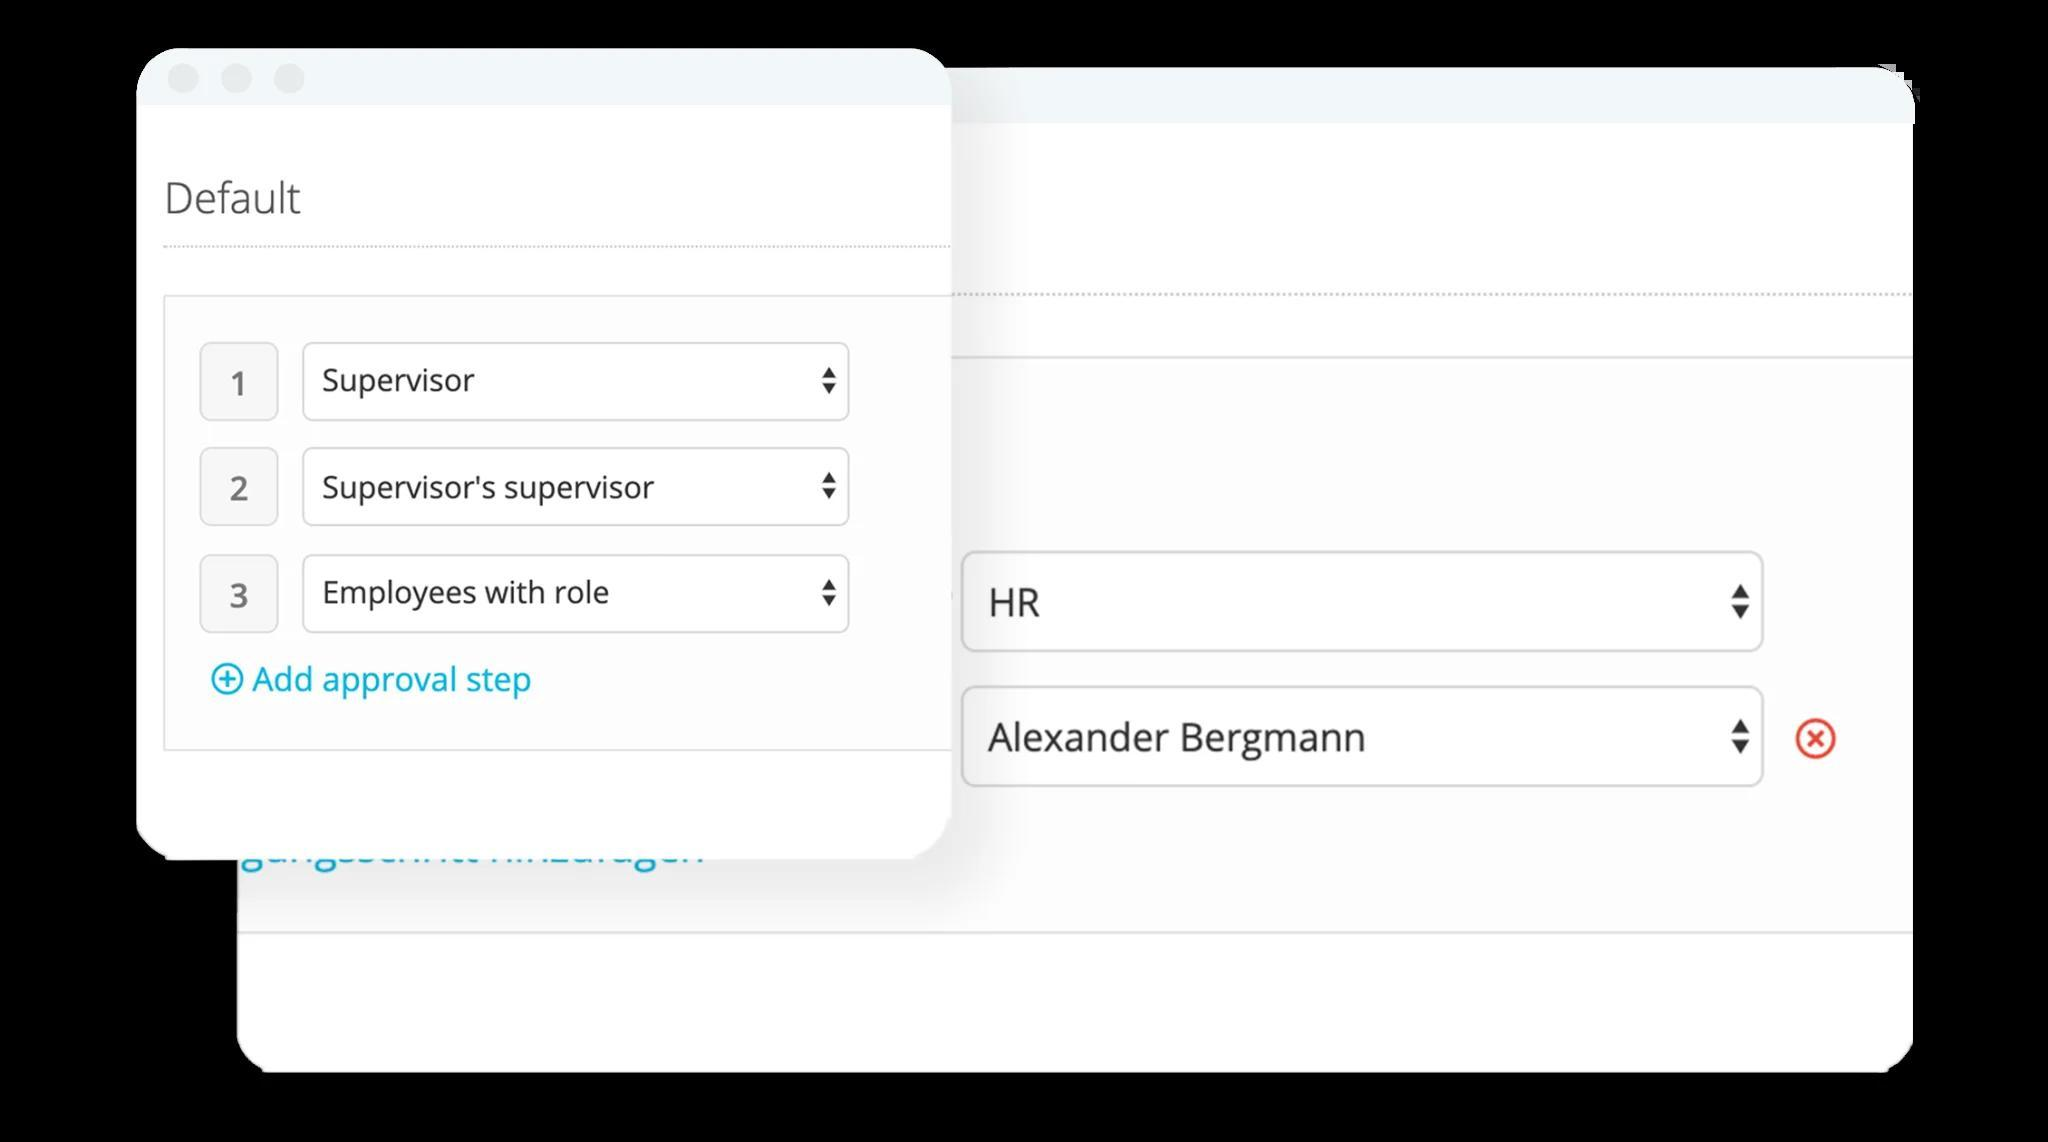dropdown: (961, 548, 1761, 653), (966, 684, 1763, 783), (304, 343, 849, 423), (308, 449, 849, 526), (308, 556, 853, 631)
icon: (1794, 716, 1839, 764), (207, 655, 252, 700)
label: (249, 660, 545, 699), (157, 169, 308, 224)
